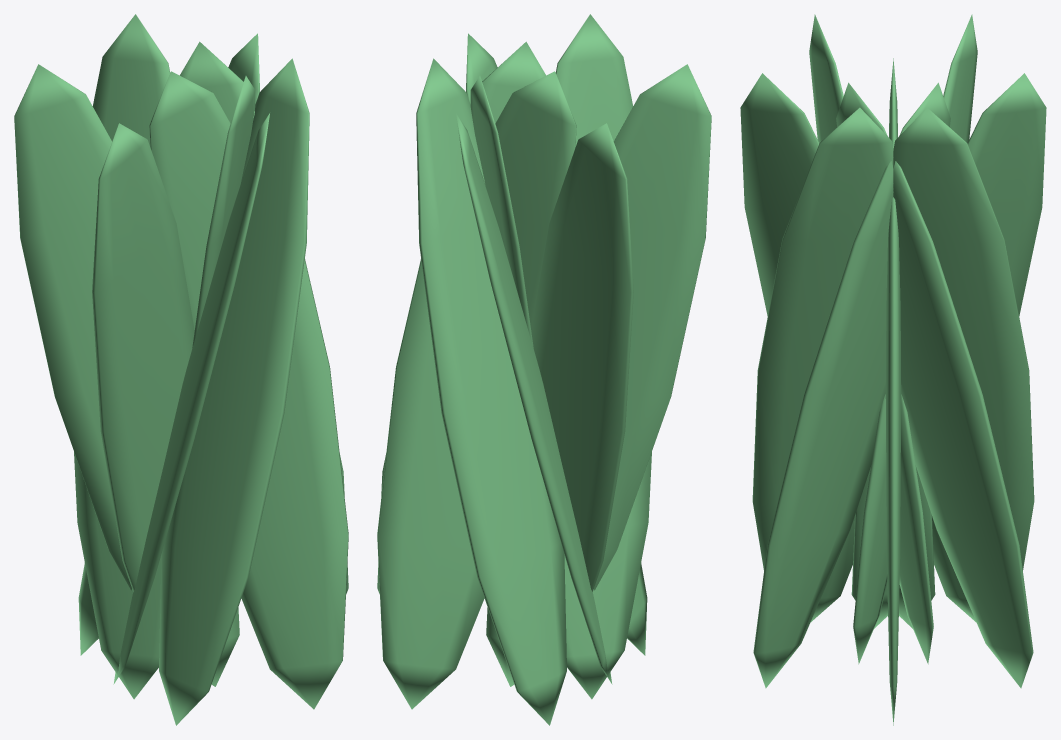
The model's file is env_prehistoric_giant_fern.glb.
3 renders of one model, left to right at view 1: azimuth 30°, elevation 25°; view 2: azimuth 150°, elevation 25°; view 3: azimuth 270°, elevation 25°, orthographic. The views are drawn at different scales.
Visible parts, largest first — view 1: ball; view 2: ball; view 3: ball.
Boxes of the visible parts, x1=… form: ball: x1=14, y1=14, x2=348, y2=725; ball: x1=377, y1=14, x2=711, y2=725; ball: x1=740, y1=14, x2=1046, y2=725.
Bounding box in the file's own units: 1.28 × 2.55 × 1.19.
